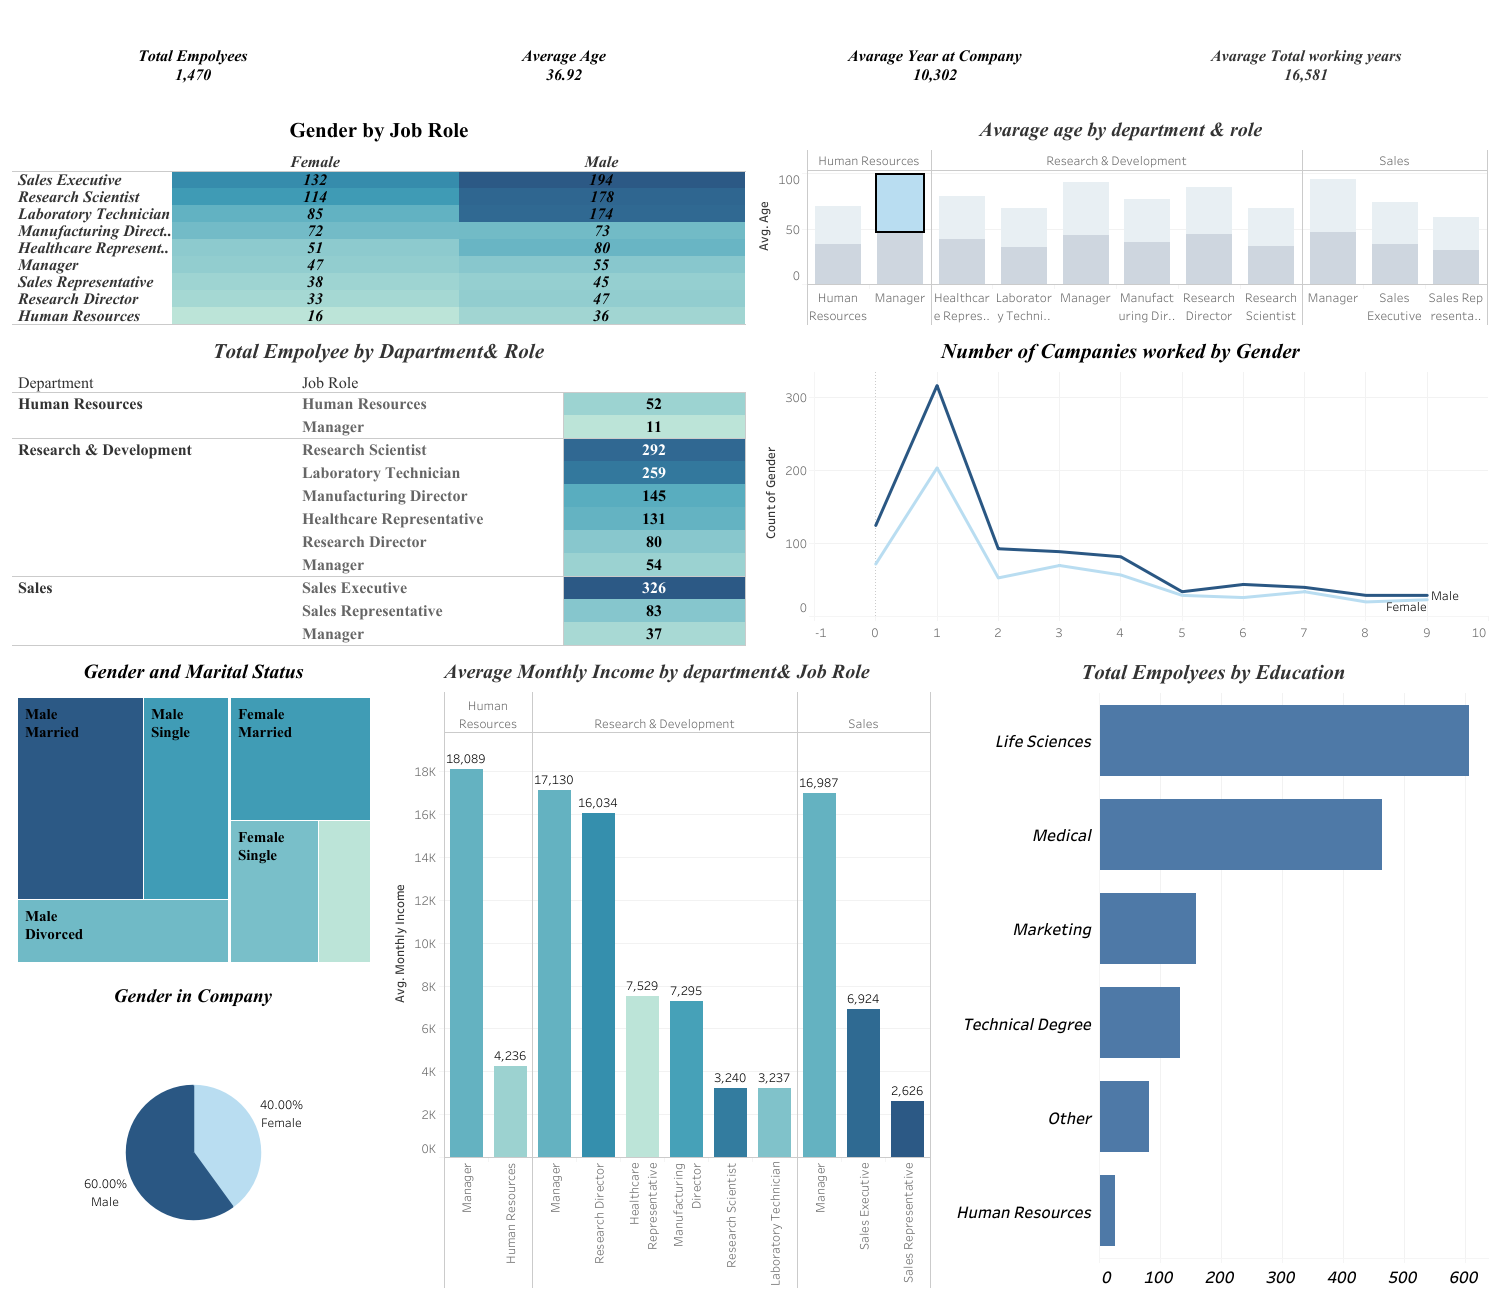

Layout of this report page (visuals, bound fields, positions):
{"tool":"tableau","page":{"name":"IBM Dashbroad","canvas":[1500,1300],"ordinal":0},"visuals":[{"type":"worksheet","title":"Total Empolyees","mark":"Automatic","box":[8,8,371,100]},{"type":"worksheet","title":"Average Ages for Employees","mark":"Automatic","box":[379,8,371,100]},{"type":"worksheet","title":"Average Year at Company","mark":"Automatic","box":[750,8,371,100]},{"type":"worksheet","title":"Avarage Total Workig Years","mark":"Automatic","box":[1121,8,371,100]},{"type":"worksheet","title":"Gender by Job Role","mark":"Square","rows":["JobRole"],"cols":["Gender"],"box":[8,108,742,220.9]},{"type":"worksheet","title":"Avarage age by department & role","mark":"Automatic","rows":["Age"],"cols":["Department","JobRole"],"box":[750,108,742,220.9]},{"type":"worksheet","title":"Total Empolyee by Dapartment& Role","mark":"Square","rows":["Department","JobRole"],"box":[8,329,742,321]},{"type":"worksheet","title":"Number of Campanies worked by Gender","mark":"Automatic","rows":["Gender"],"cols":["NumCompaniesWorked"],"box":[750,329,742,321]},{"type":"worksheet","title":"Gender and Marital Status","mark":"Automatic","box":[8,650,370.9,320.9]},{"type":"worksheet","title":"Average Monthly Income by department& Job Role","mark":"Automatic","rows":["MonthlyIncome"],"cols":["Department","JobRole"],"box":[378.9,650,556.6,642]},{"type":"worksheet","title":"Total Empolyees by Education","mark":"Automatic","rows":["EducationField"],"cols":["EmployeeCount"],"box":[935.4,650,556.6,642]},{"type":"worksheet","title":"Gender","mark":"Pie","box":[8,970.9,370.9,321.1]}]}

Visuals, with their boxes in screenshot pixels (x1, y1, x2, y2), scaled from the page's 1500x1300 canvas onto the 1499x1299 screenshot:
"Total Empolyees" worksheet: left=8, top=8, right=379, bottom=108
"Average Ages for Employees" worksheet: left=379, top=8, right=750, bottom=108
"Average Year at Company" worksheet: left=750, top=8, right=1120, bottom=108
"Avarage Total Workig Years" worksheet: left=1120, top=8, right=1491, bottom=108
"Gender by Job Role" worksheet (Square marks): left=8, top=108, right=750, bottom=329
"Avarage age by department & role" worksheet: left=750, top=108, right=1491, bottom=329
"Total Empolyee by Dapartment& Role" worksheet (Square marks): left=8, top=329, right=750, bottom=650
"Number of Campanies worked by Gender" worksheet: left=750, top=329, right=1491, bottom=650
"Gender and Marital Status" worksheet: left=8, top=650, right=379, bottom=970
"Average Monthly Income by department& Job Role" worksheet: left=379, top=650, right=935, bottom=1291
"Total Empolyees by Education" worksheet: left=935, top=650, right=1491, bottom=1291
"Gender" worksheet (Pie marks): left=8, top=970, right=379, bottom=1291
